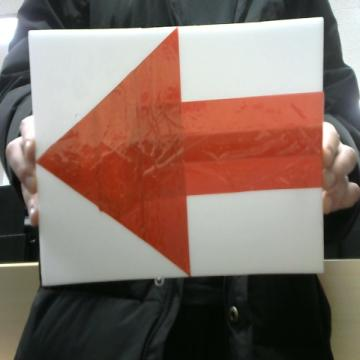red_left: (38, 28, 322, 274)
